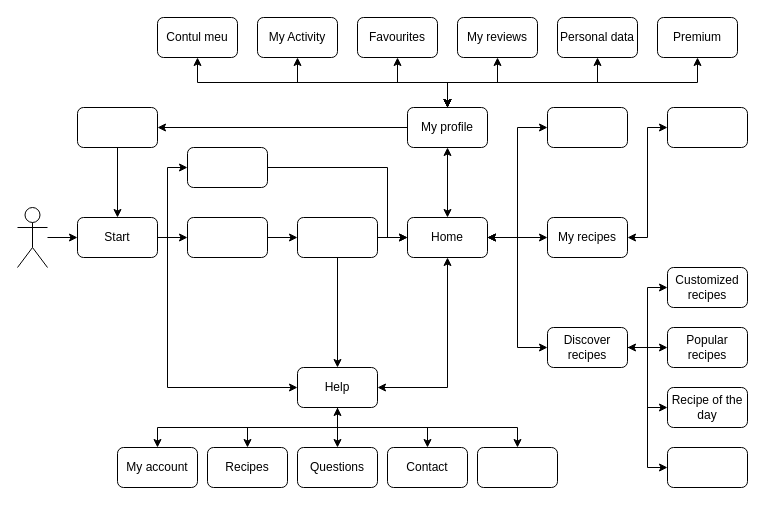
This 765x505 diagram has some shape labels left out. Here are the shapes that lost their labels. From the top down, the centre of each, then its label:
At [117,127]: "Disconnect".
At [587,127]: "My fridge".
At [707,127]: "Recipes list".
At [227,167]: "Log in".
At [32,237]: "User".
At [227,237]: "Sign Up".
At [337,237]: "Sign Up Form".
At [517,467]: "Activate premium".
At [707,467]: "Recipes search engine".
